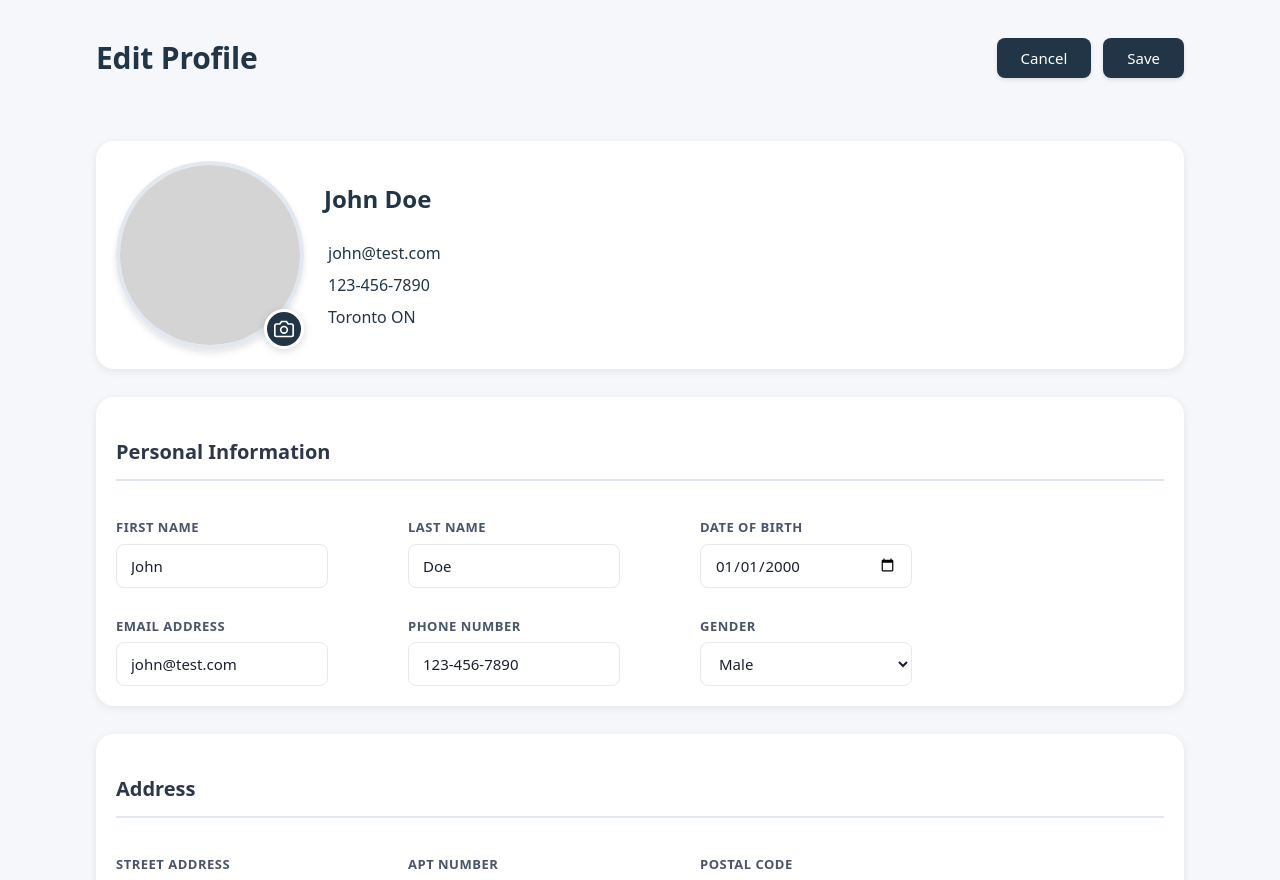
Test: EditProfile Component › shows validation error for invalid email
The width and height of the screenshot is (1280, 880).
Step 1. Replace the text in the field showing "john@test.com" below "Email Address" with "wrongemail.com" → x=222, y=664, box [116,642,328,686]
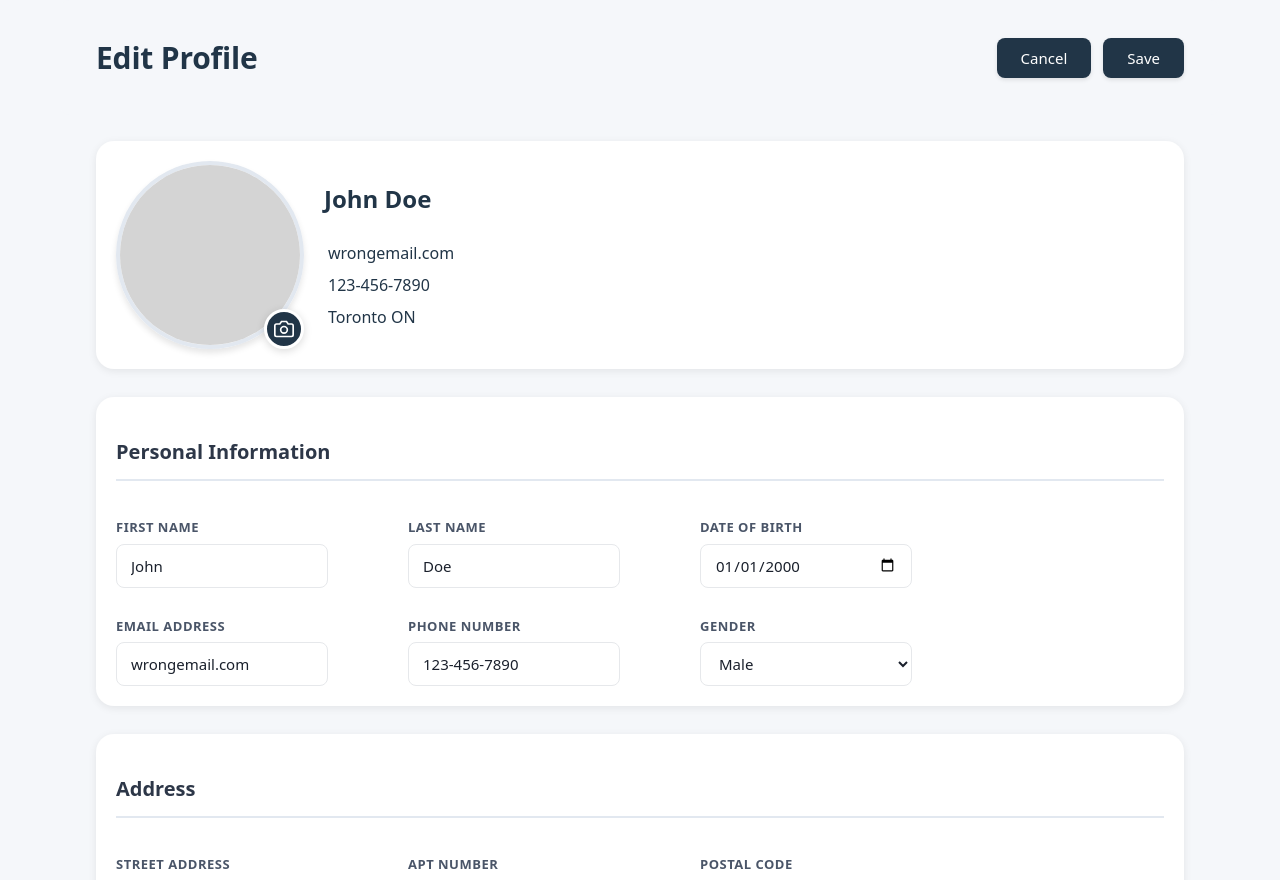
Step 2. Click the button "Save" → x=1144, y=58, box [1103,38,1184,78]
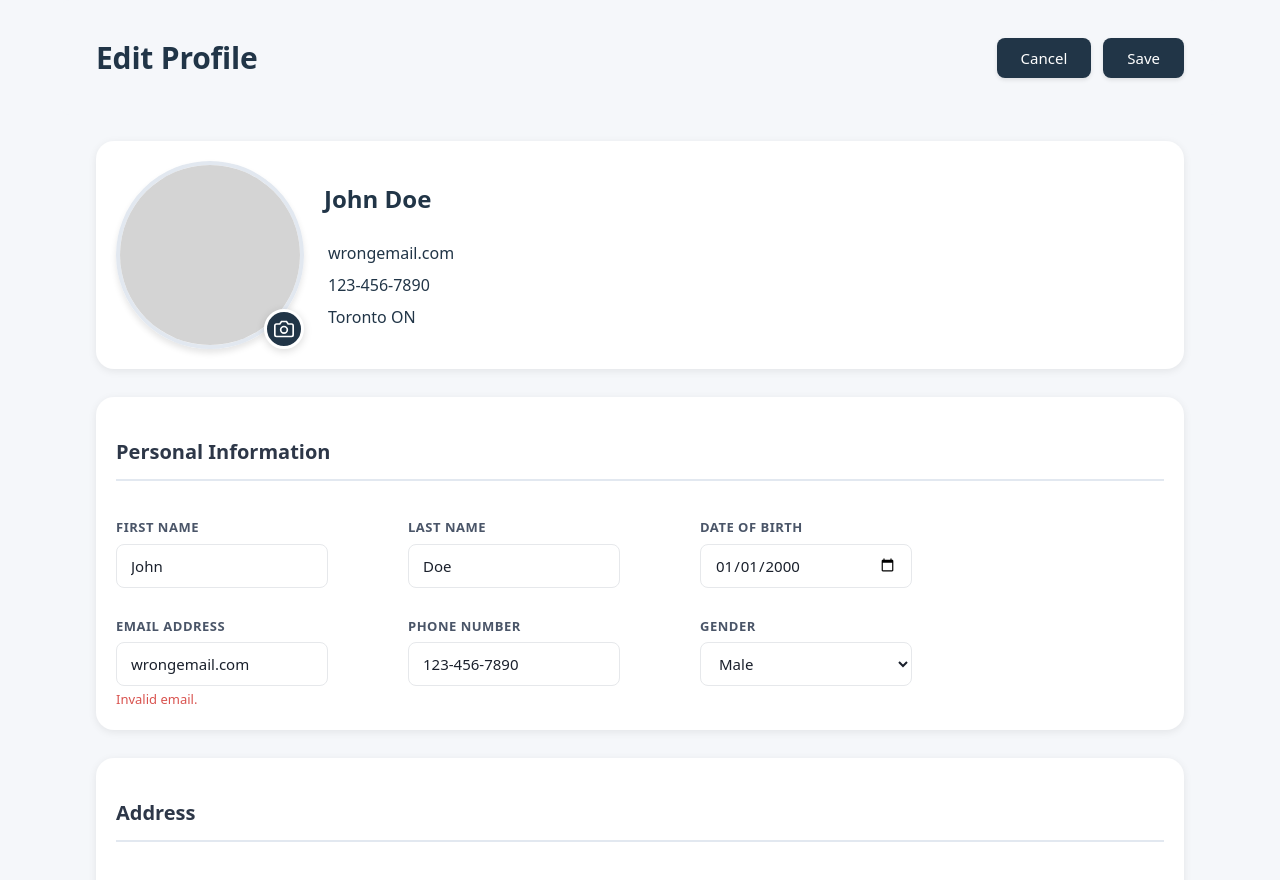
Expected: the text "Invalid email." is shown, [116,690,197,708]
